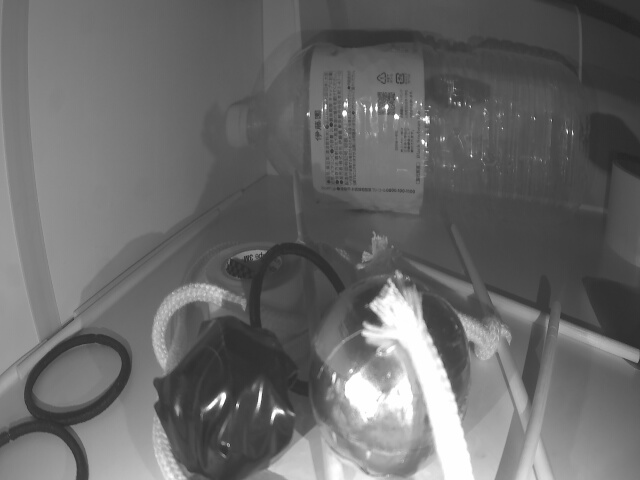Dead: (155, 322, 296, 468)
Live: (310, 275, 476, 474)
